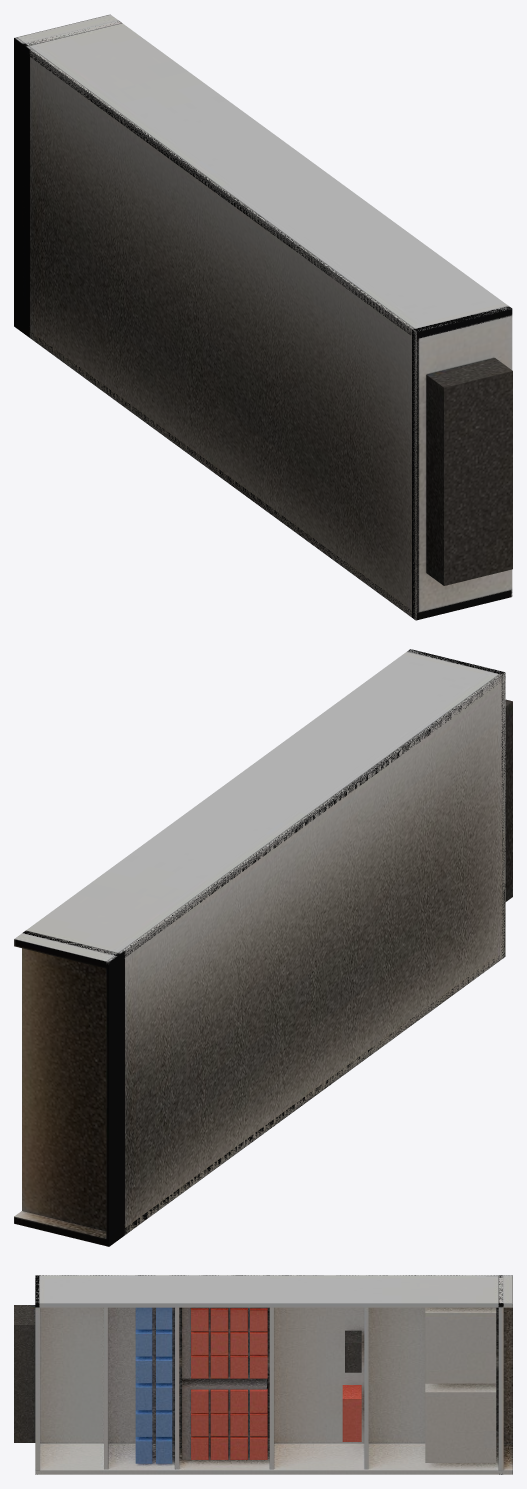
The picture shows the model from 3 angles, top to bottom: view 1: azimuth 30°, elevation 25°; view 2: azimuth 150°, elevation 25°; view 3: azimuth 270°, elevation 25°; orthographic projection. The views are drawn at different scales.
Parts seen in each view (by area): view 1: A1B_final.001; view 2: A1B_final.001; view 3: A1B_final.001.
Boxes of the visible parts, x1,y1,x2,y2 form: A1B_final.001: [14, 14, 512, 620]; A1B_final.001: [14, 649, 512, 1246]; A1B_final.001: [14, 1275, 512, 1474].
Bounding box in the file's own units: 0.28 × 0.8 × 2.11.
Materials: 1 (1 with a texture image).
